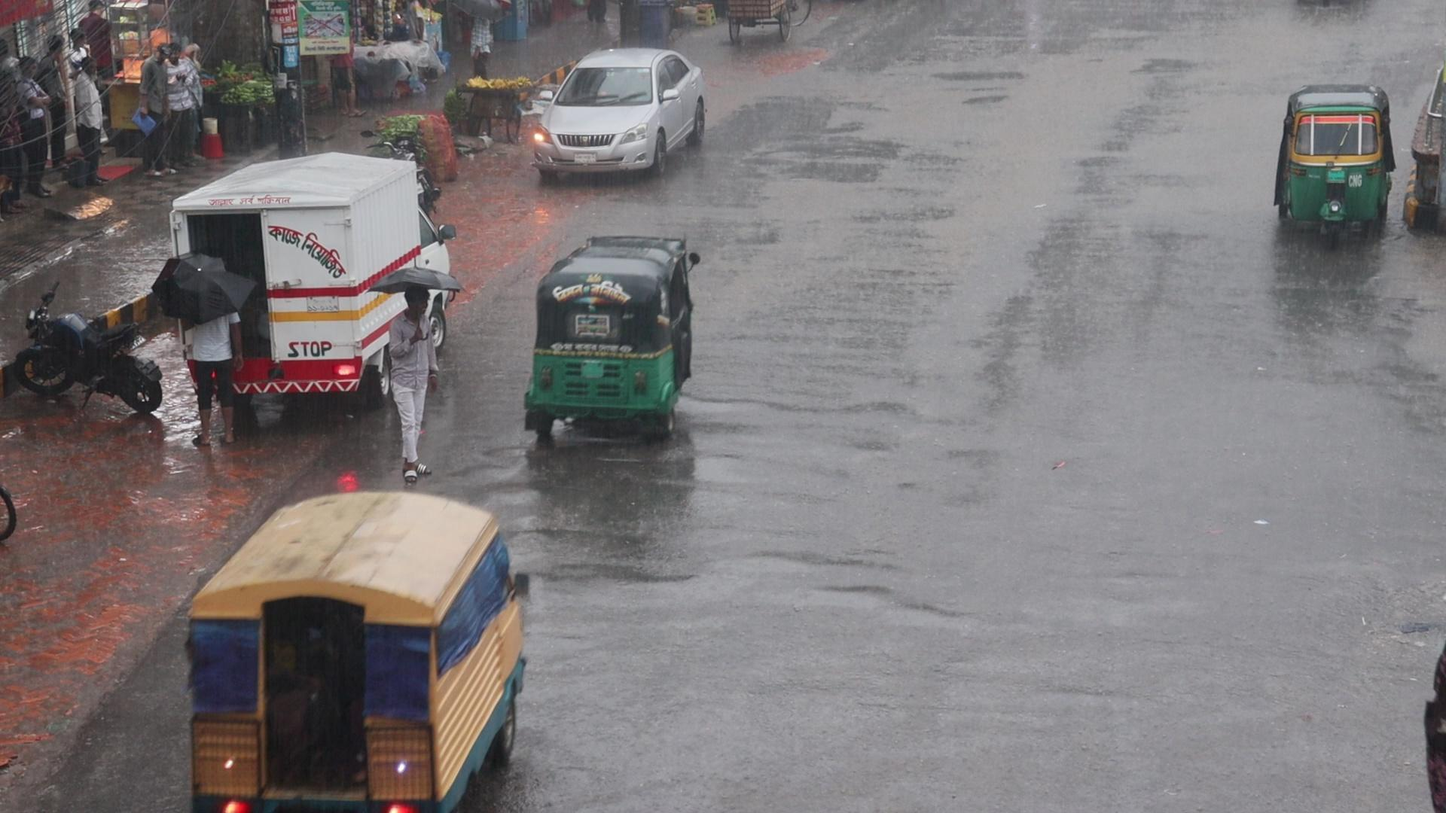Car: (530, 45, 710, 177)
Truck: (182, 485, 535, 807)
